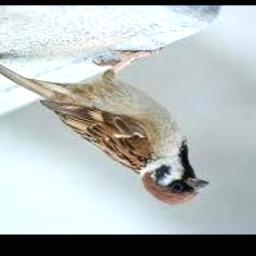Sparrow: (0, 50, 208, 207)
